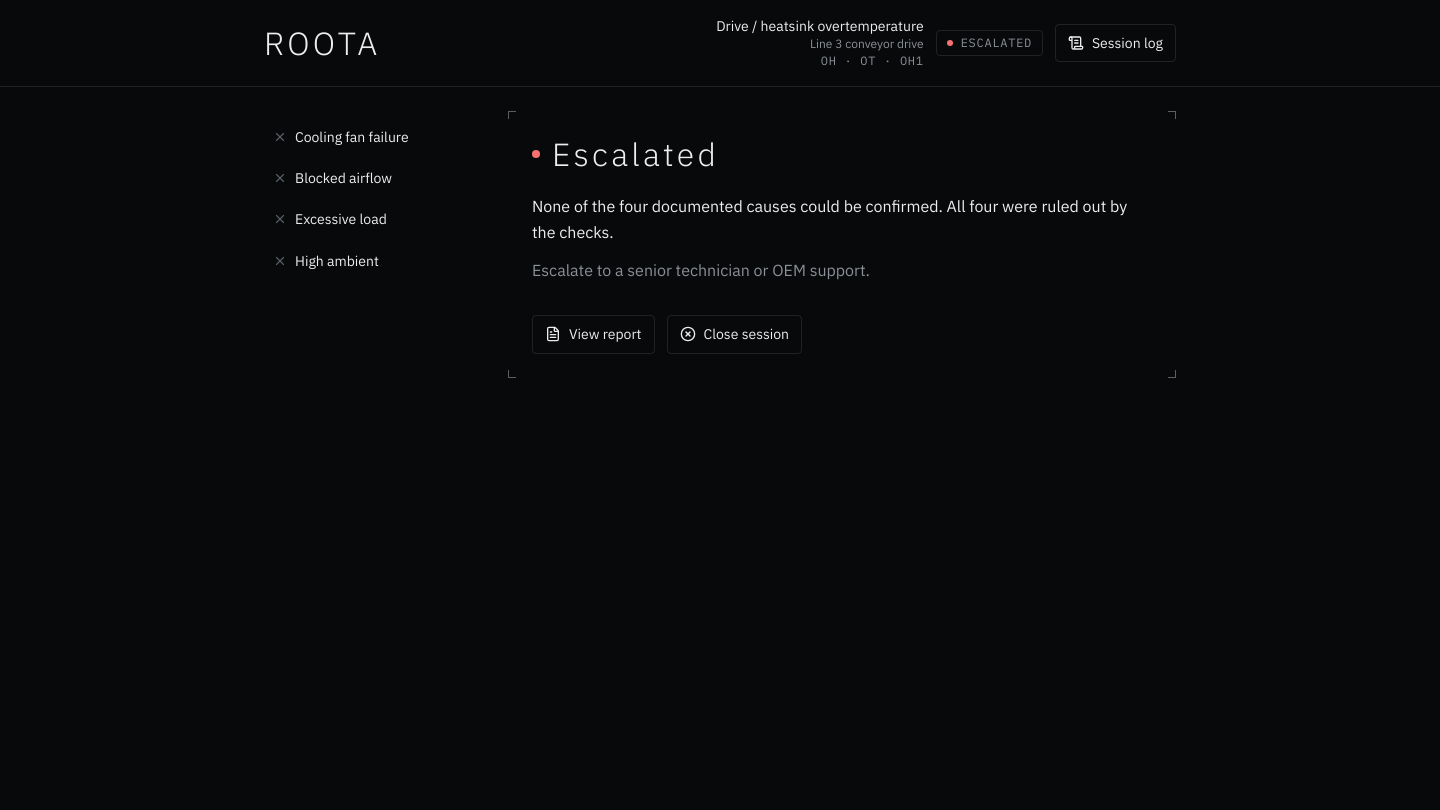
Test: report navigation › pushes a history entry when the report opens
What coordinates should you click on to do the following:
click the button "View report"
I would click on:
 (593, 334)
Its box is [532,315,654,354].
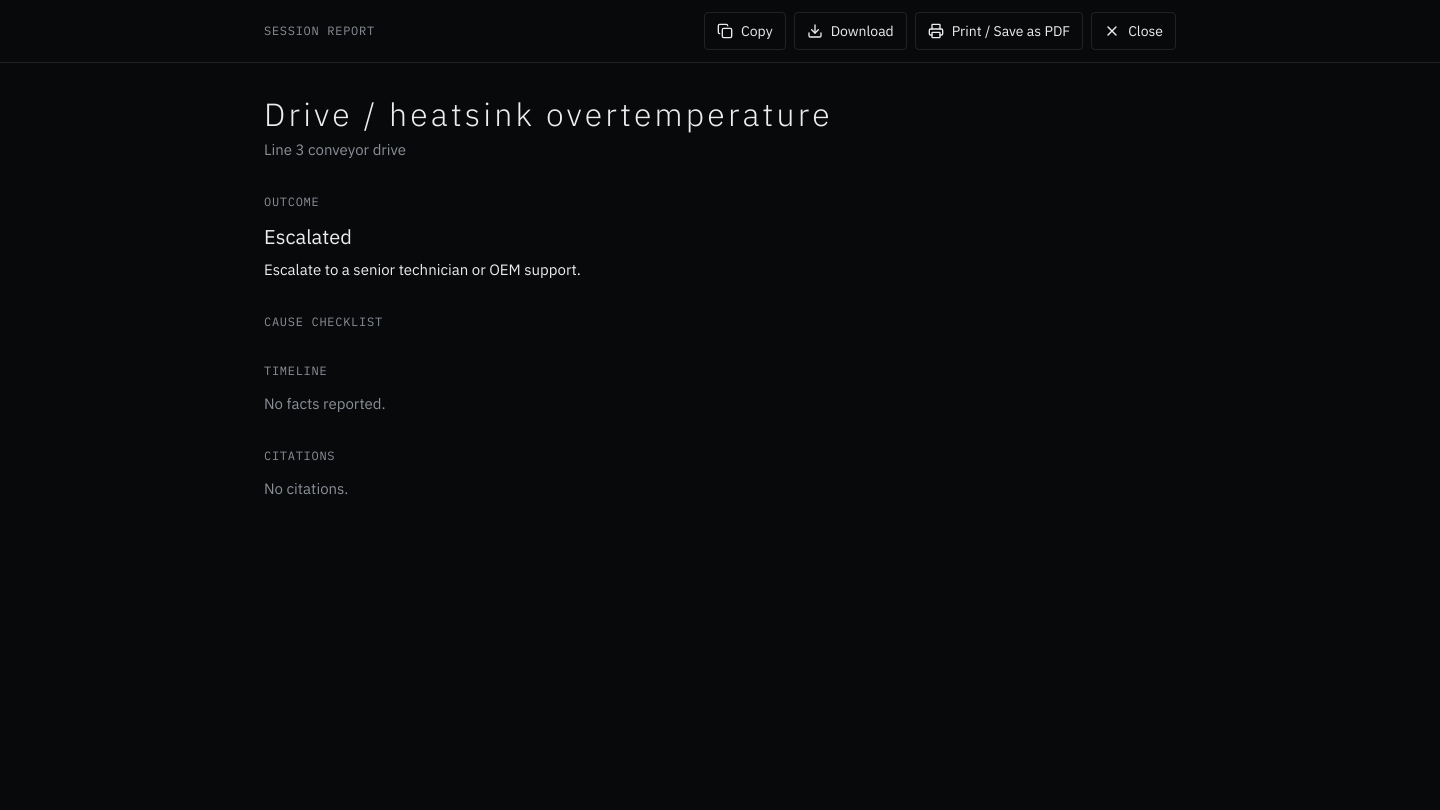
Result: the button with aria-label "Close report" is shown at [1091,12,1176,50]
